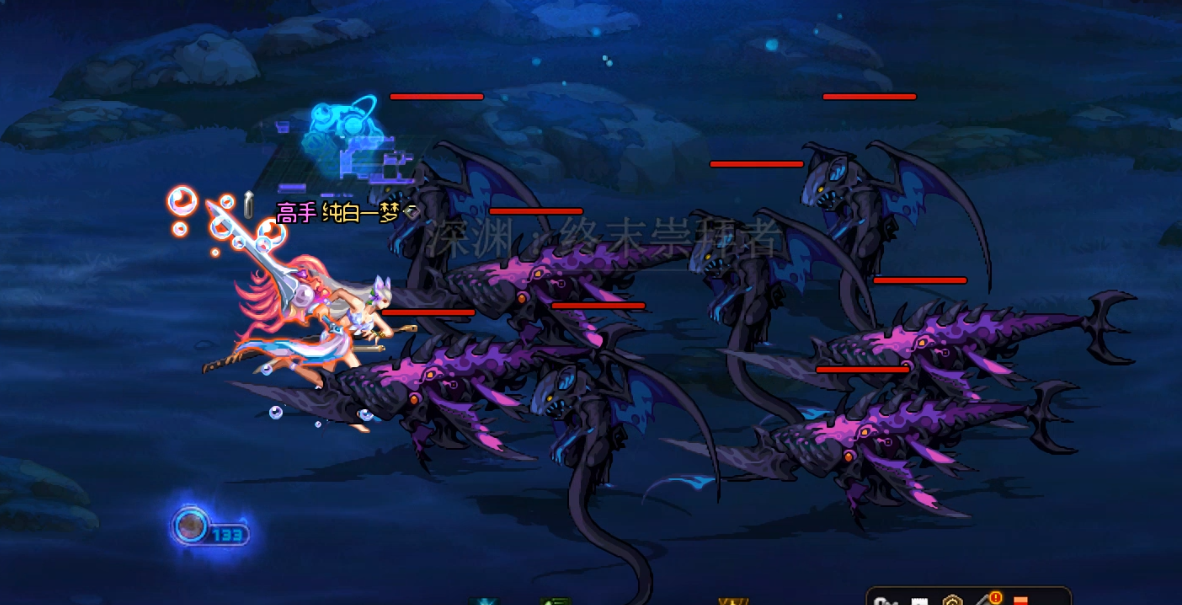monster: (704, 389, 1107, 541), (782, 135, 992, 306), (519, 359, 675, 580), (313, 339, 511, 433)
